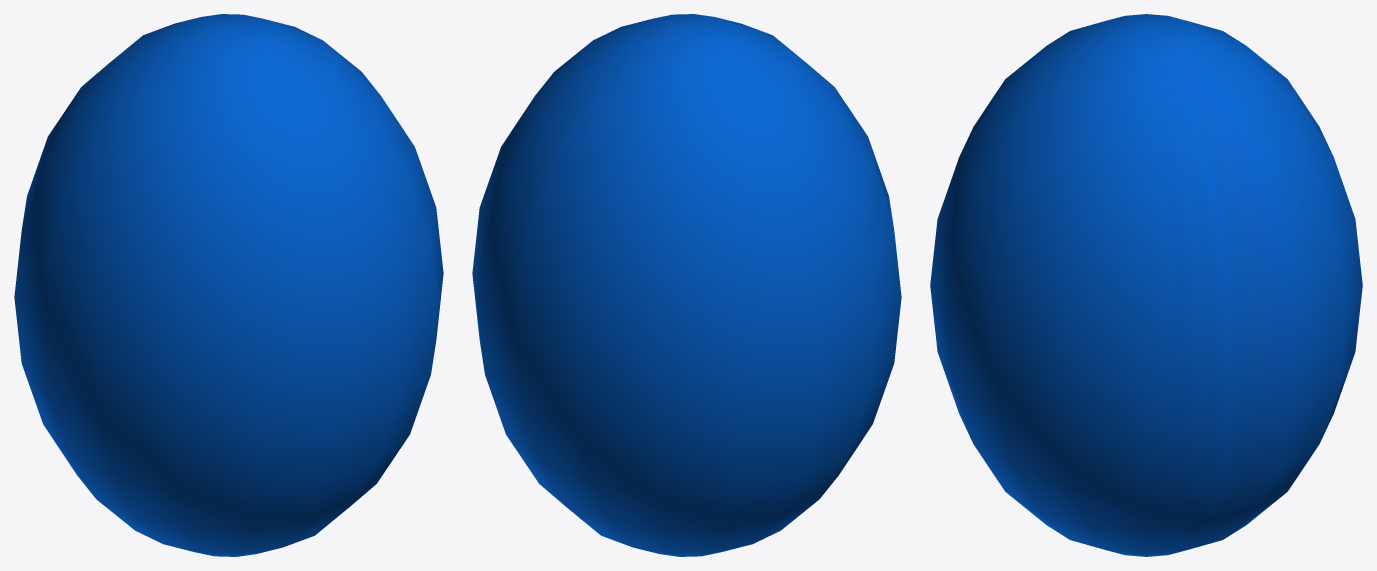
The model's file is egg_19.fbx.
3 views of the same model, side by side, from view 1: azimuth 30°, elevation 25°; view 2: azimuth 150°, elevation 25°; view 3: azimuth 270°, elevation 25° (orthographic).
Parts seen in each view (by area): view 1: egg_19; view 2: egg_19; view 3: egg_19.
Part boxes in pixels (x1=…): egg_19: x1=14, y1=14, x2=443, y2=556; egg_19: x1=472, y1=14, x2=901, y2=556; egg_19: x1=930, y1=14, x2=1362, y2=556.
Bounding box in the file's own units: 9.95 × 13.02 × 9.95.
